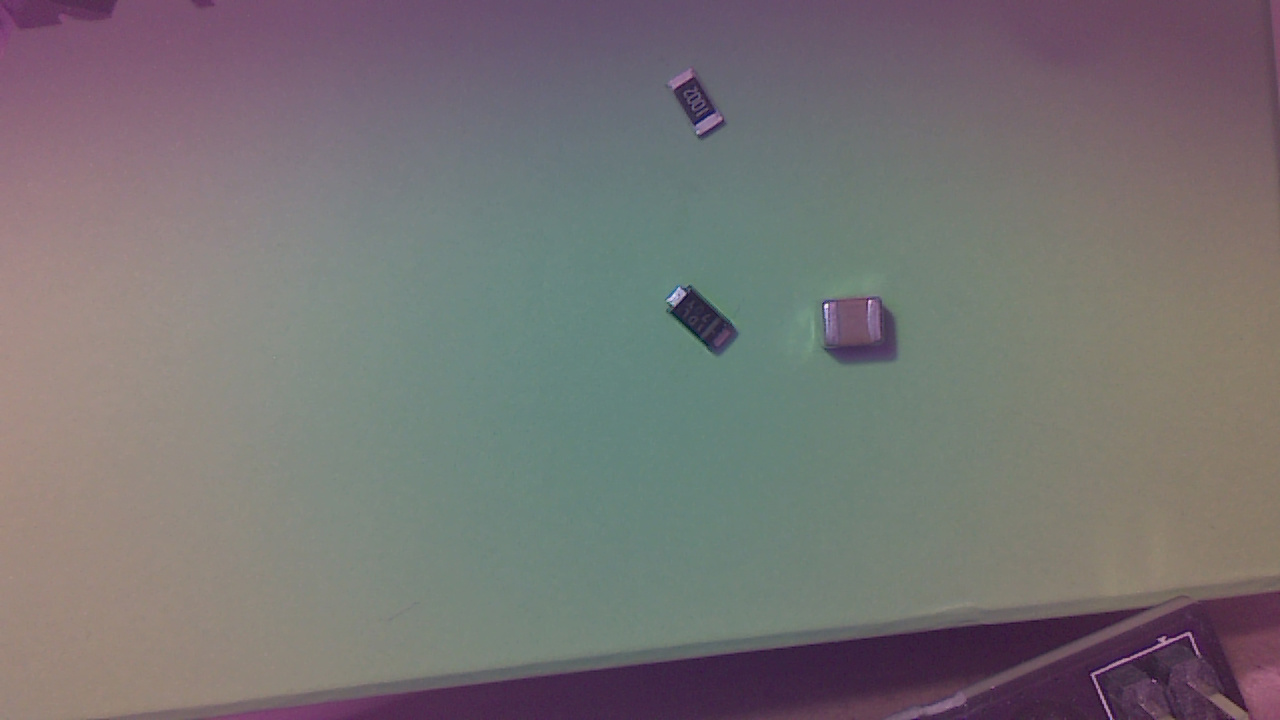Condensator: (821, 300, 887, 357)
Diode: (669, 284, 744, 359)
Resistor: (669, 71, 736, 144)
